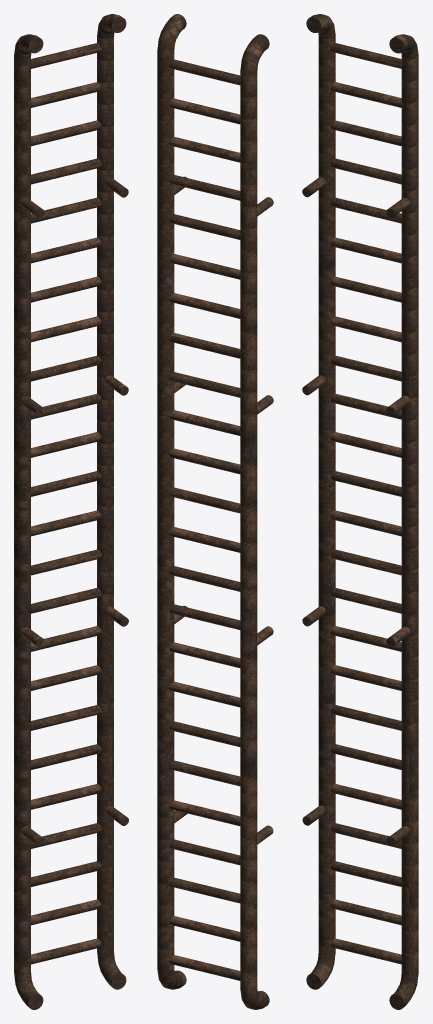
The model's file is echelle.gltf.
3 renders of one model, left to right at view 1: azimuth 30°, elevation 25°; view 2: azimuth 150°, elevation 25°; view 3: azimuth 330°, elevation 25°, orthographic.
Visible parts, largest first — view 1: Cylinder; view 2: Cylinder; view 3: Cylinder.
Part boxes in pixels (x1=…): Cylinder: x1=14, y1=14, x2=128, y2=1009; Cylinder: x1=157, y1=14, x2=273, y2=1009; Cylinder: x1=302, y1=14, x2=418, y2=1009.
Size of the model in its own units: 3.85 by 36.56 by 1.6.
1 material, 1 textured.
